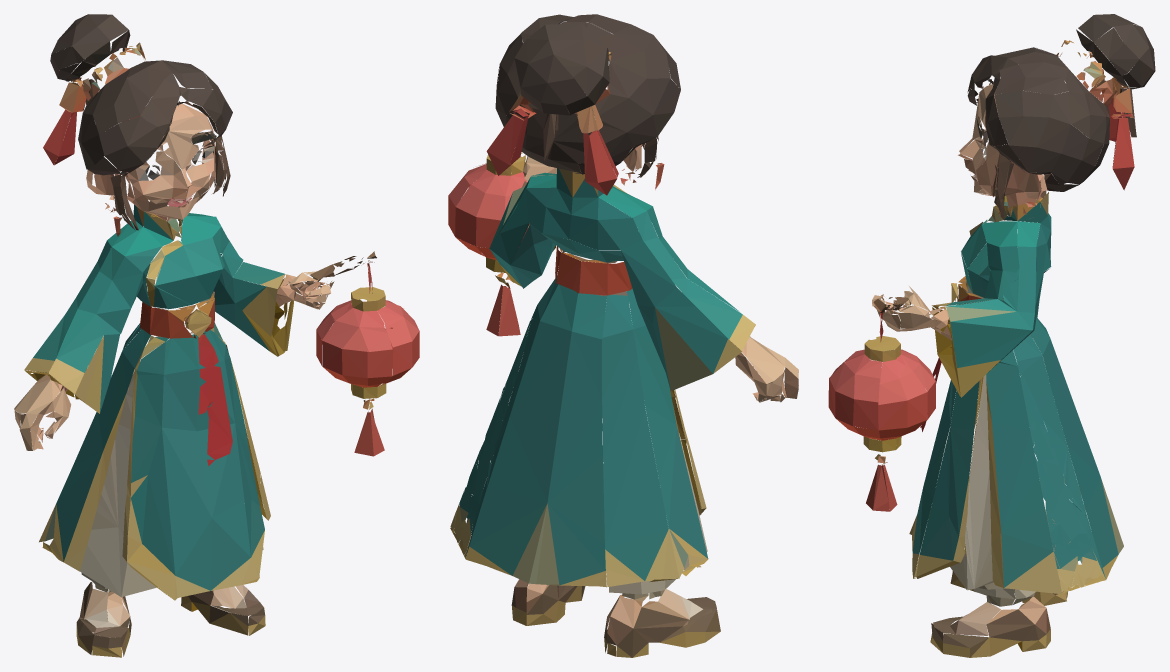
The model's file is fig-shopper.glb.
3 views of the same model, side by side, from view 1: azimuth 30°, elevation 25°; view 2: azimuth 150°, elevation 25°; view 3: azimuth 270°, elevation 25° (orthographic). The views are drawn at different scales.
Visible parts, largest first — view 1: source; view 2: source; view 3: source.
Part boxes in pixels (x1,y1,x2,y2): source: (14, 14, 419, 657); source: (448, 14, 798, 657); source: (828, 14, 1155, 657).
Size of the model in its own units: 0.6429 by 0.9996 by 0.5016.
